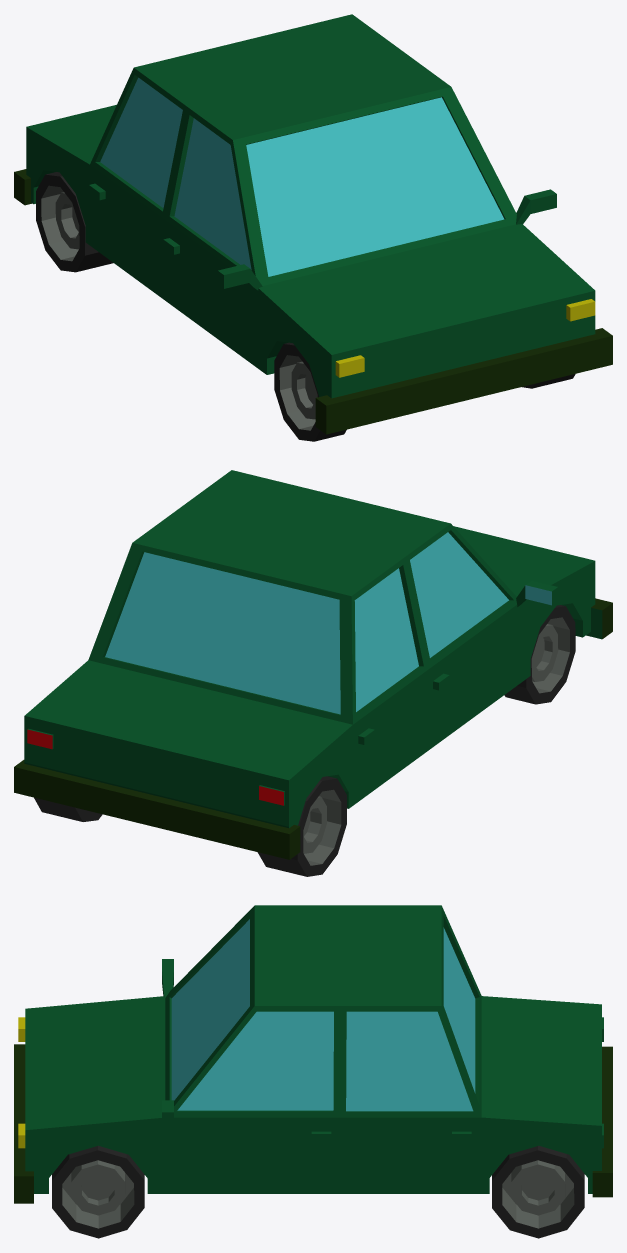
The model's file is car_1_green.fbx.
The picture shows the model from 3 angles, top to bottom: view 1: azimuth 30°, elevation 25°; view 2: azimuth 150°, elevation 25°; view 3: azimuth 270°, elevation 25°; orthographic projection. The views are drawn at different scales.
Parts seen in each view (by area): view 1: Cube; view 2: Cube; view 3: Cube.
Part boxes in pixels (x1,y1,x2,y2): Cube: (14,14,612,441); Cube: (14,470,612,876); Cube: (14,905,612,1238).
Bounding box in the file's own units: 488 × 329 × 806.
